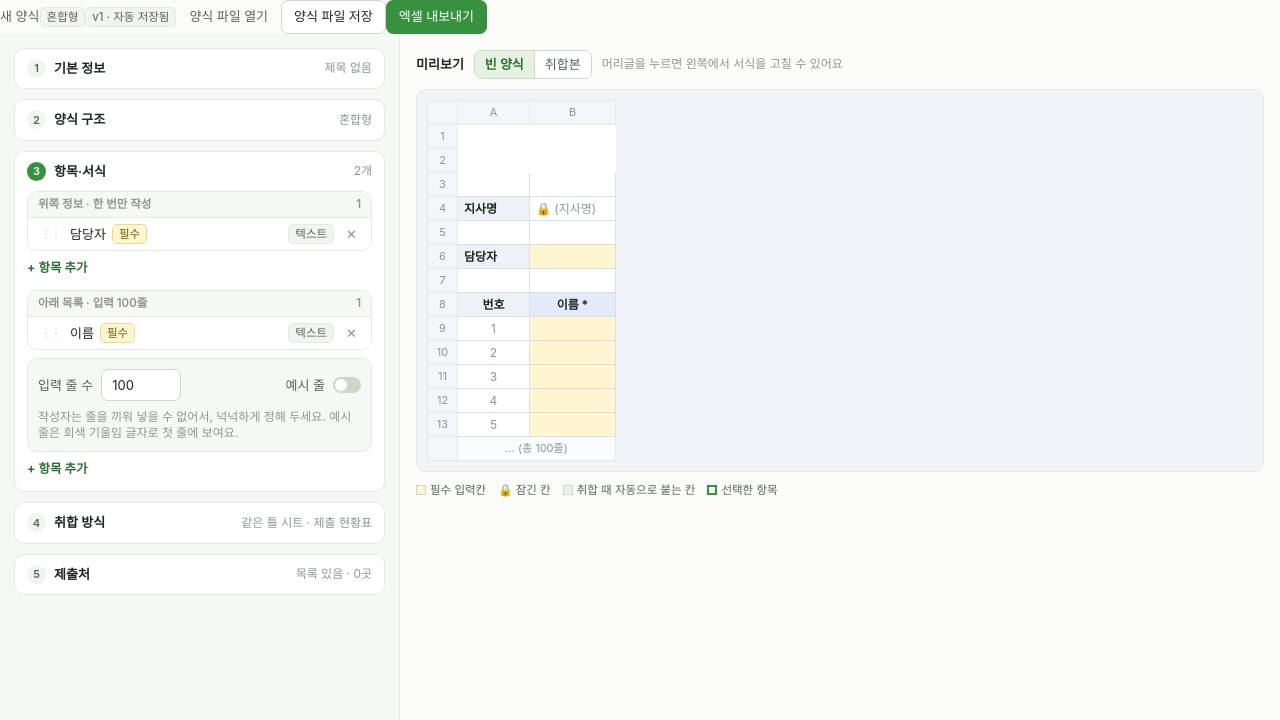
Test: [엑셀 내보내기]를 누르면 검사 창: 제목·지사 목록이 비어 있음
The width and height of the screenshot is (1280, 720).
Click the button "엑셀 내보내기" at [436, 17], box [386,0,487,34]
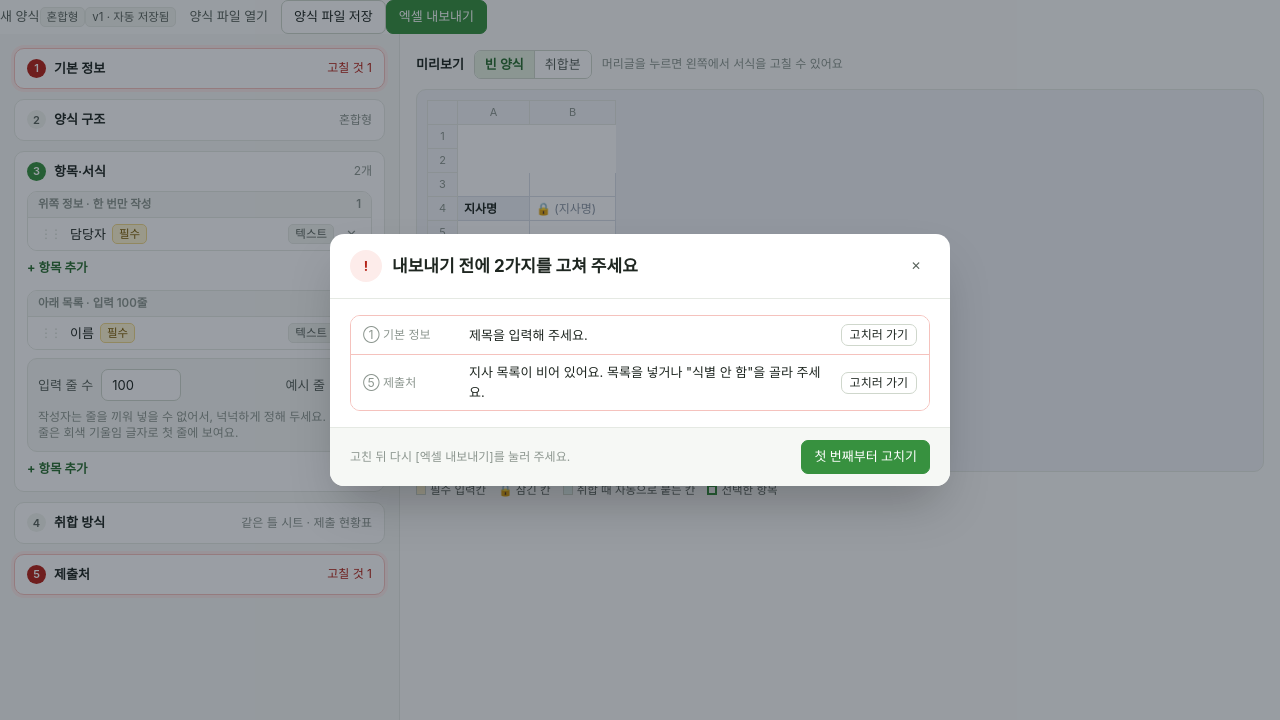
Check: the text "제목을 입력해 주세요." is shown, box [469,326,588,342]
Check: the text "지사 목록이 비어 있어요. 목록을 넣거나 \"식별 안 함\"을 골라 주세요." is shown, box [469,363,831,402]
